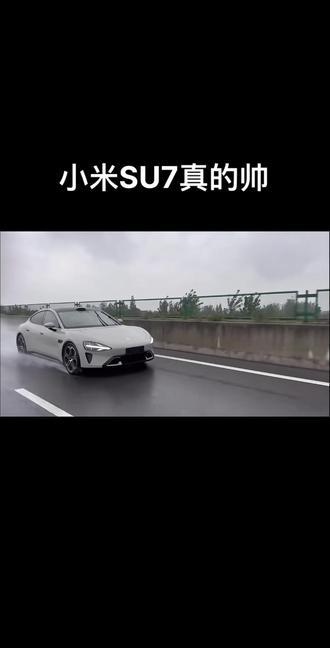su7: (20, 302, 167, 375)
